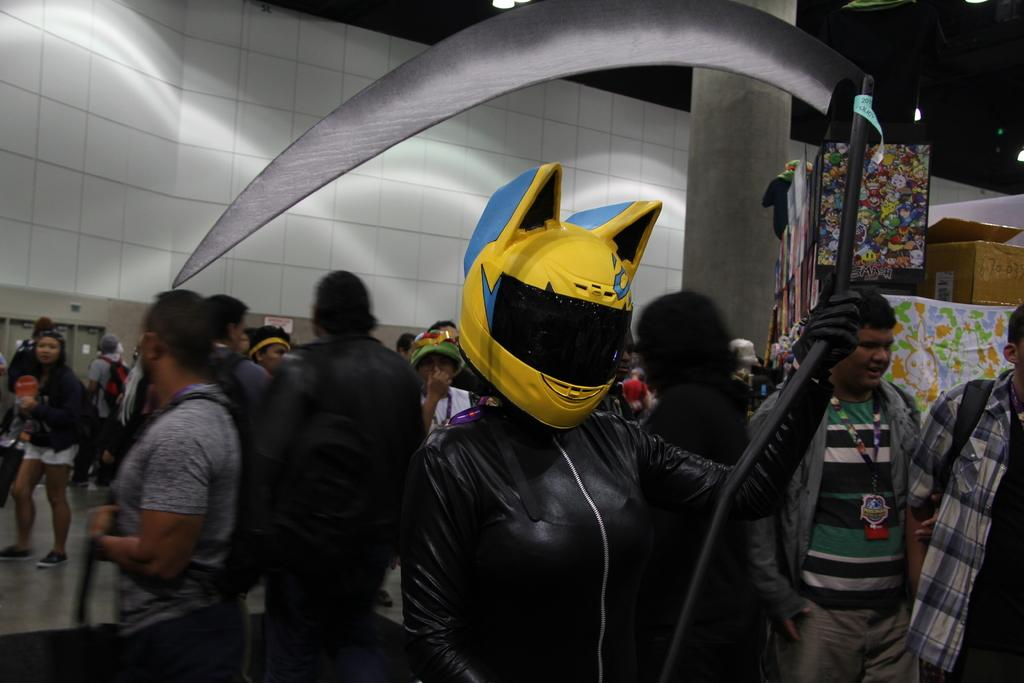helmet: (458, 221, 634, 433)
nohelmet: (634, 290, 734, 401), (138, 288, 219, 396), (821, 288, 896, 395), (312, 269, 372, 349), (34, 330, 66, 370), (99, 334, 119, 359)
